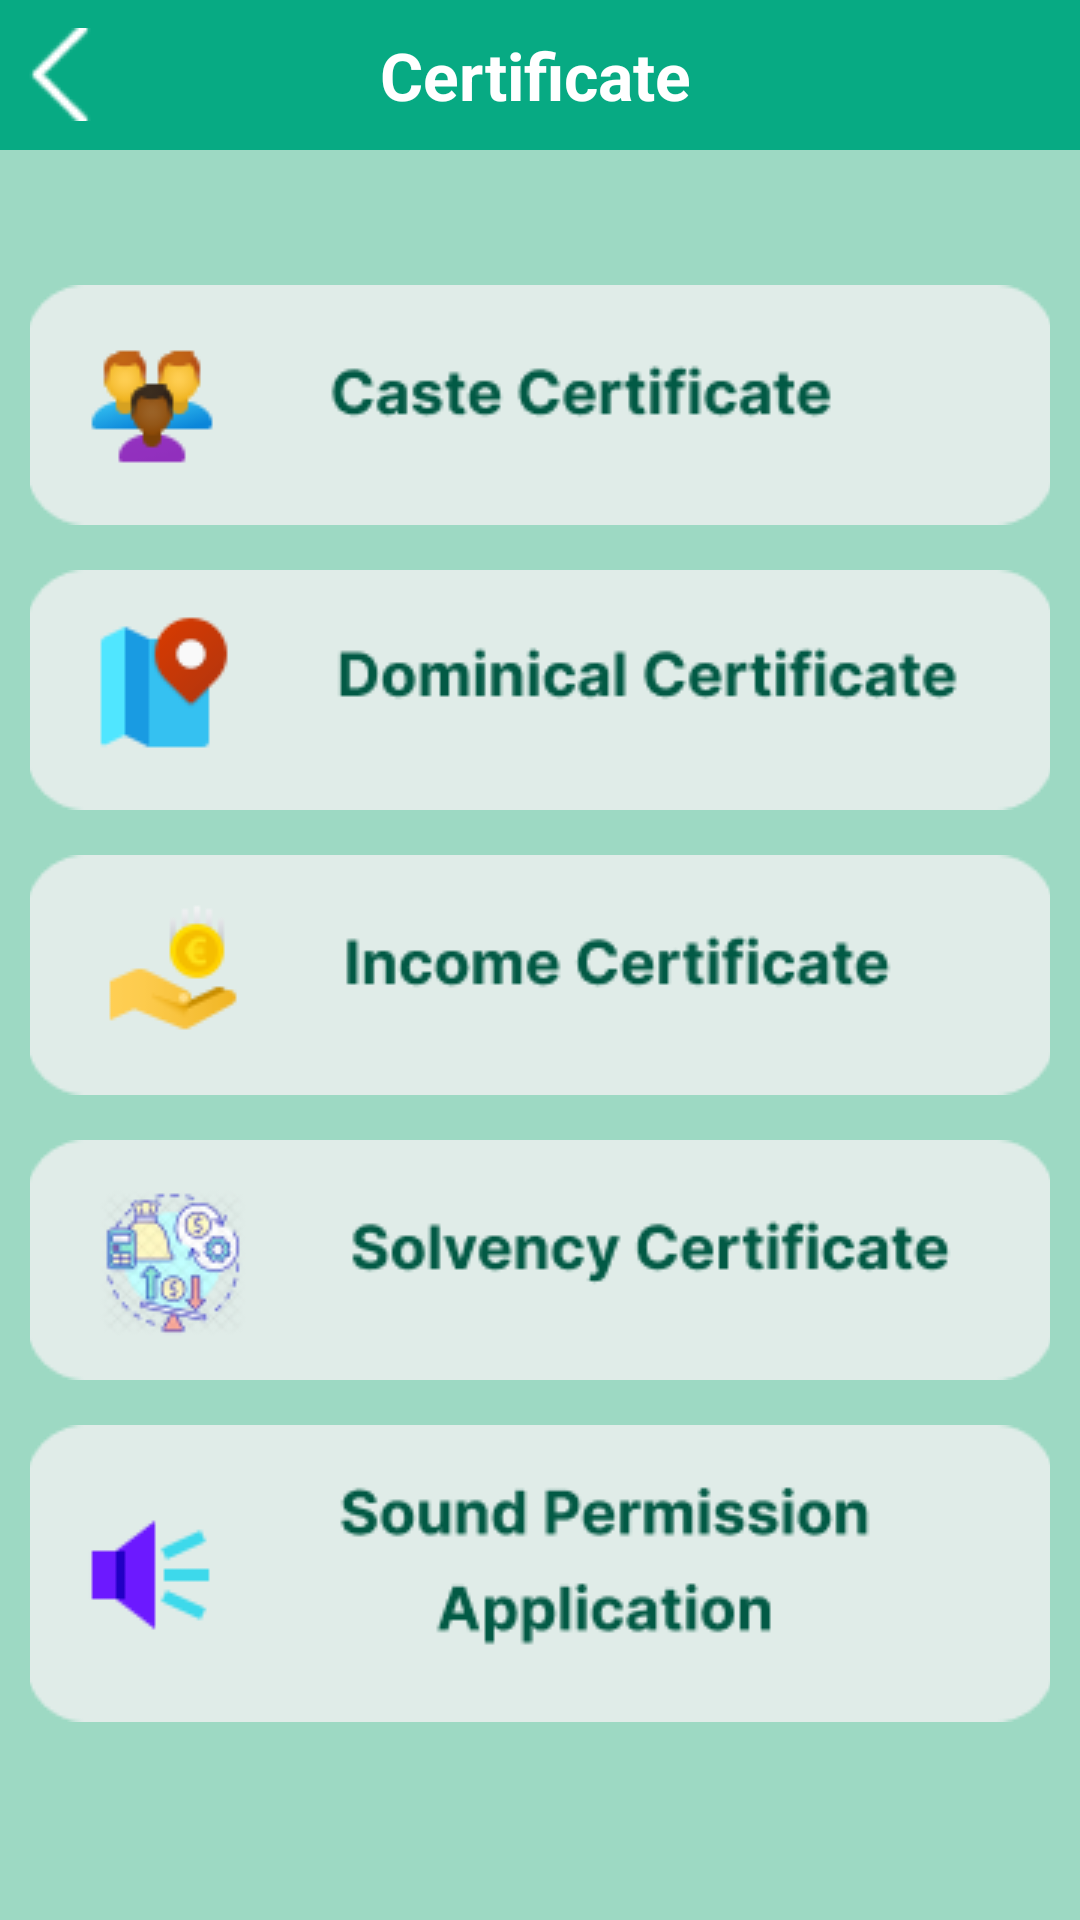

Icon click points for this 1080px x 1920px phone screenshot, format (x=x, y=y):
leftarrow: (x=60, y=74)
